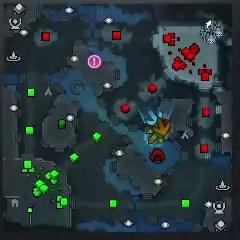Other: (88, 54, 101, 68)
x2: (147, 129, 164, 144)
x3: (147, 110, 163, 125)
x4: (153, 123, 169, 139)
x5: (153, 118, 171, 135)
